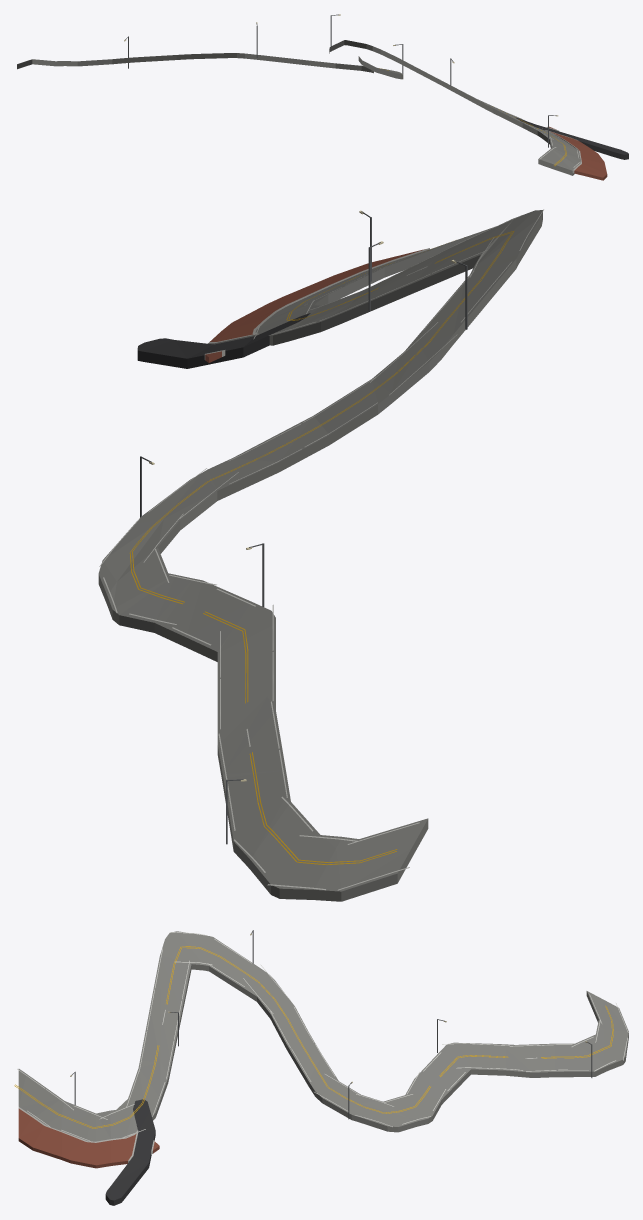
3 views of the same model, one above another, from view 1: azimuth 30°, elevation 25°; view 2: azimuth 150°, elevation 25°; view 3: azimuth 270°, elevation 25° (orthographic). The views are drawn at different scales.
Size of the model in its own units: 92.16 by 39.14 by 125.
